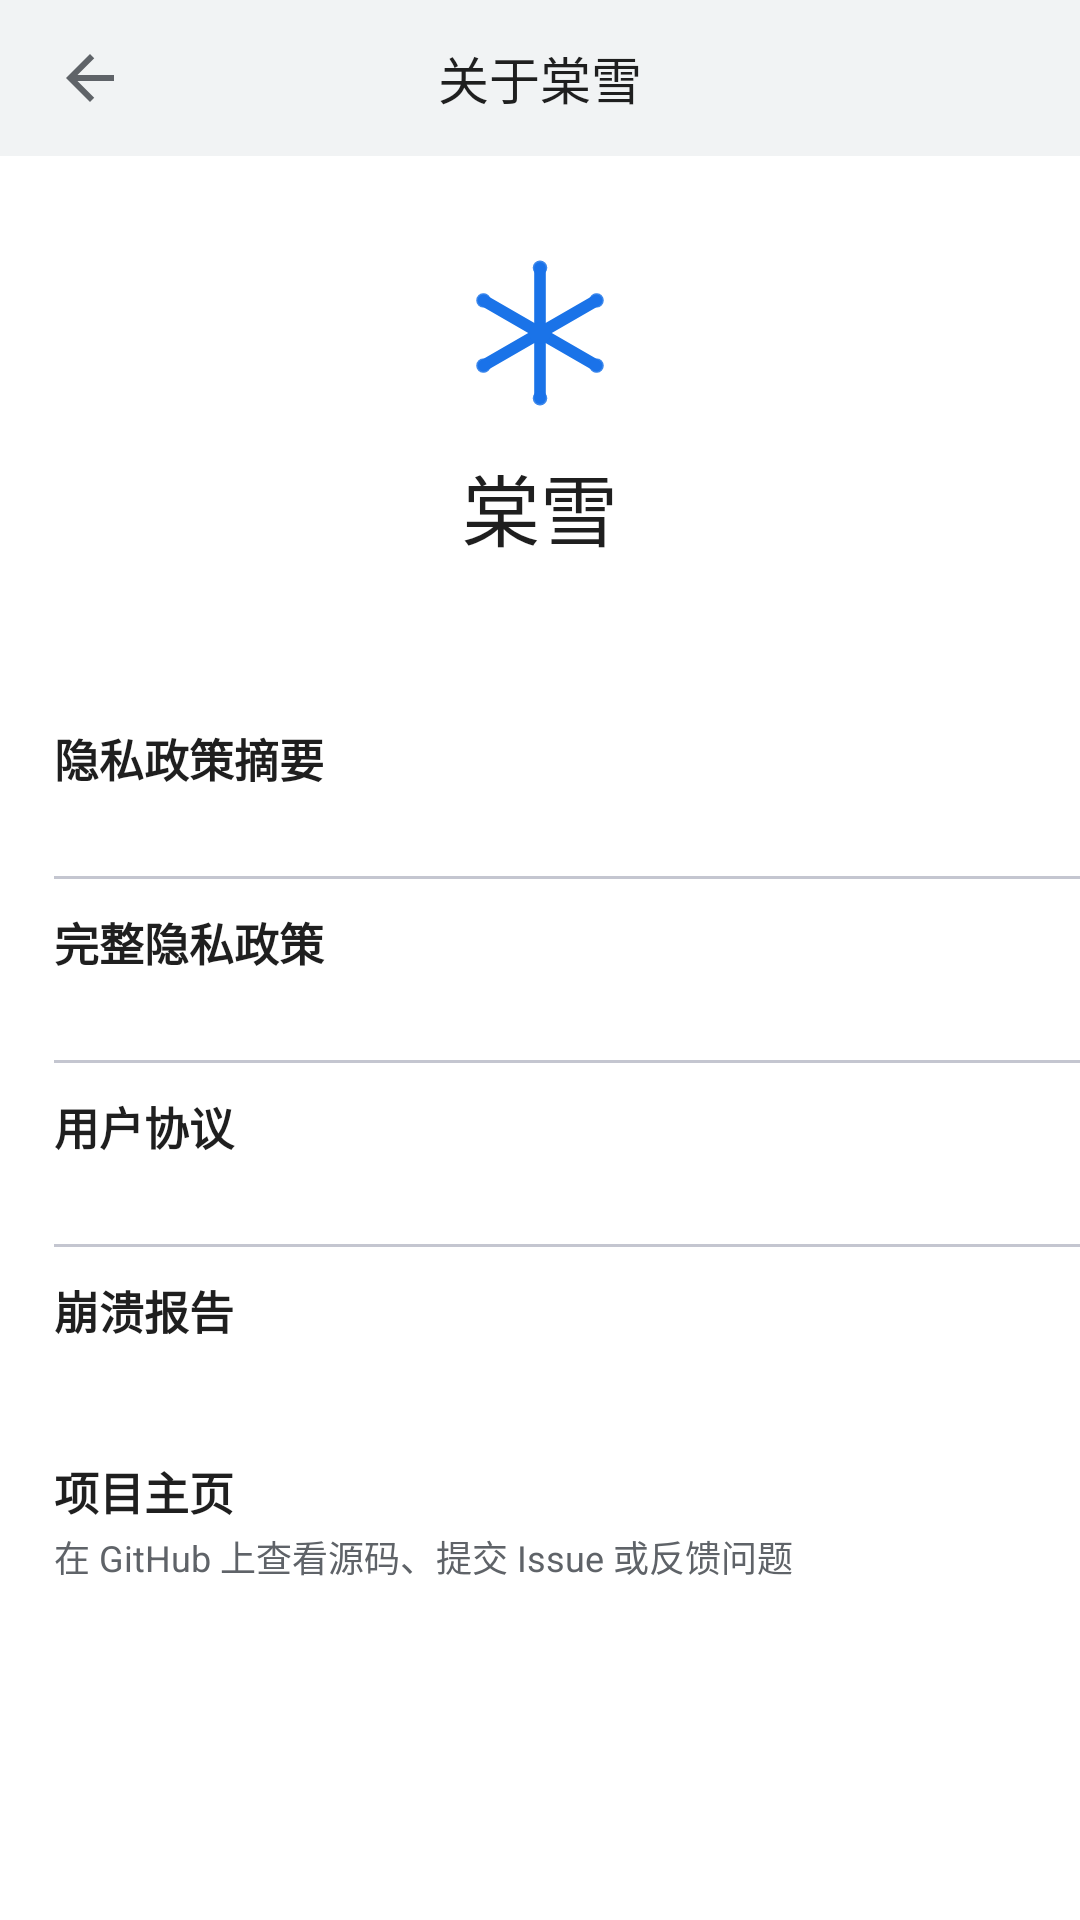

Where to tap for icons on this 1080 × 1920 app screen, as point (x, y):
返回: point (90, 78)
